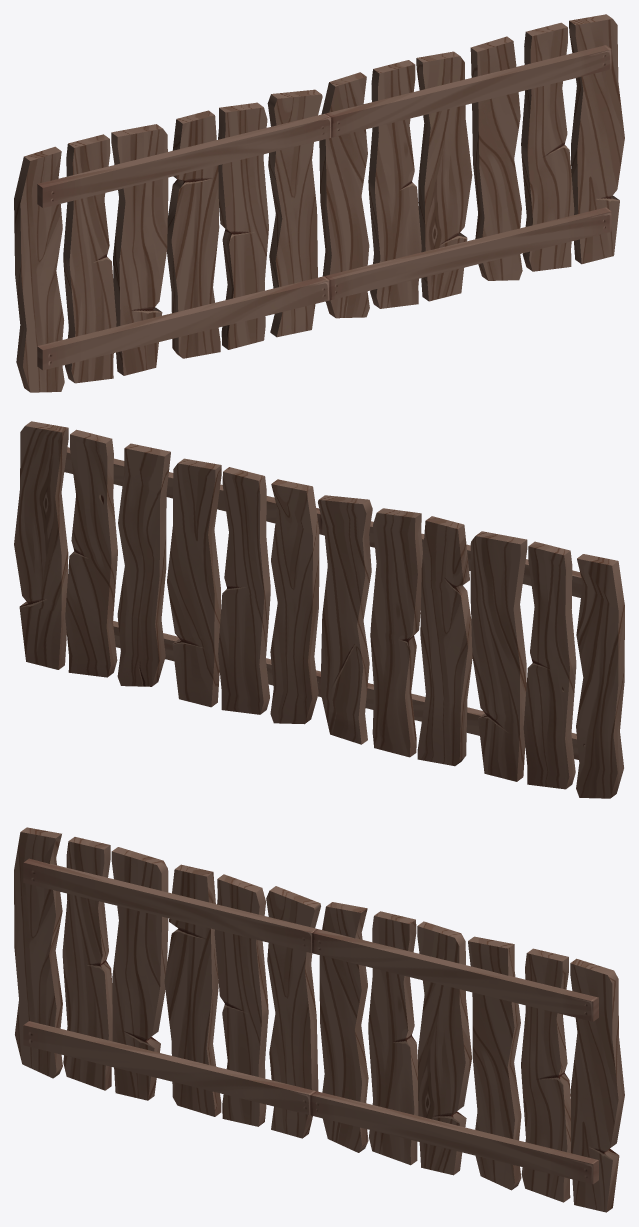
Rendered from Fence.fbx.
The picture shows the model from 3 angles, top to bottom: view 1: azimuth 30°, elevation 25°; view 2: azimuth 150°, elevation 25°; view 3: azimuth 330°, elevation 25°; orthographic projection.
Visible parts, largest first — view 1: Fence; view 2: Fence; view 3: Fence.
Part boxes in pixels (left/top/right/bottom): Fence: left=14, top=14, right=624, bottom=392; Fence: left=14, top=421, right=624, bottom=798; Fence: left=14, top=827, right=624, bottom=1212.
Size of the model in its own units: 250 by 95.27 by 9.39.
